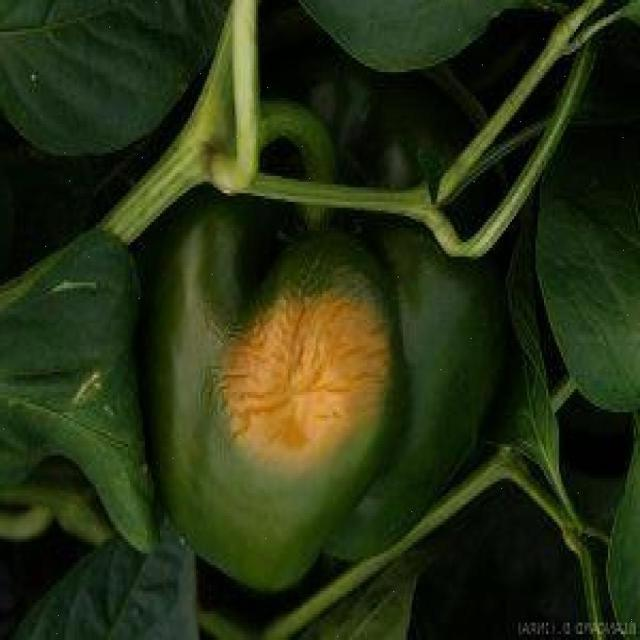Sunscald Fruit: (136, 171, 270, 319)
